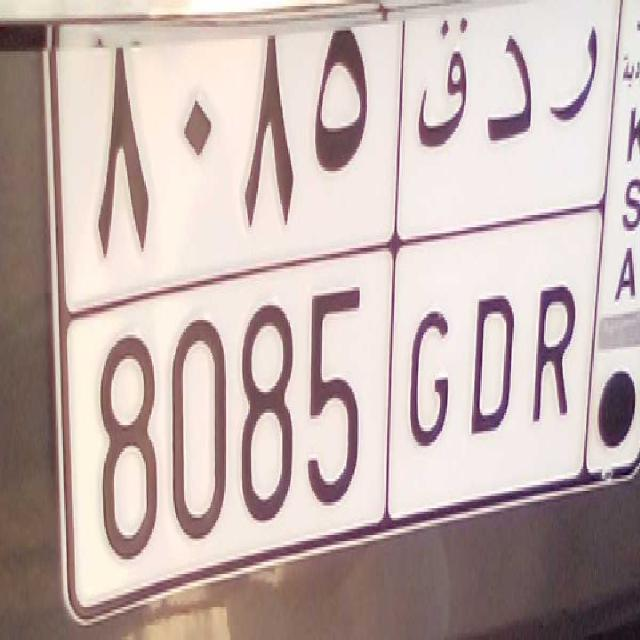license_plate: (95, 246, 597, 572)
